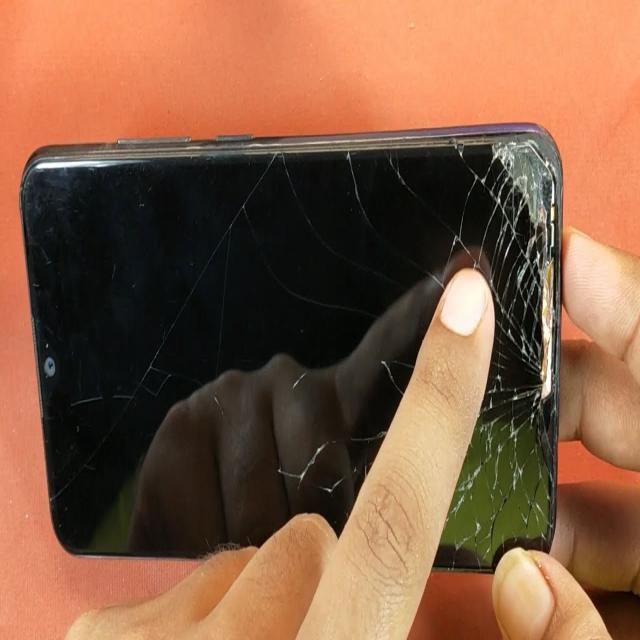mobile phone: (18, 123, 564, 575)
